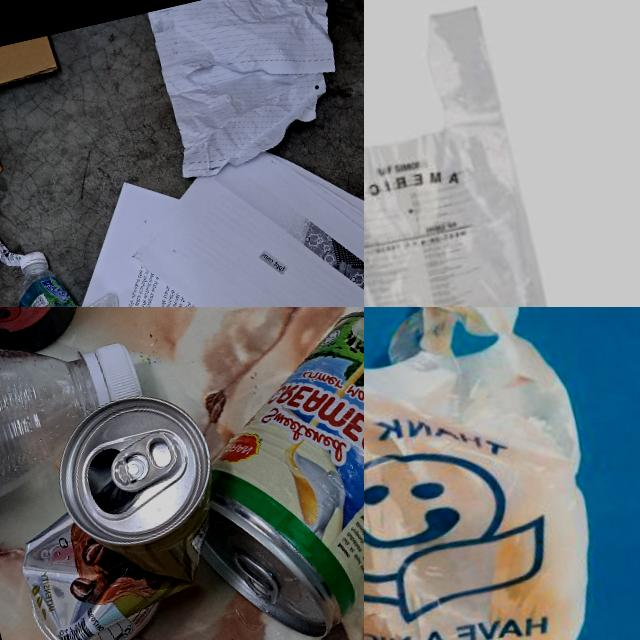aba de lata: (105, 428, 182, 494), (232, 544, 280, 609)
garrafa plástica: (0, 317, 116, 513), (10, 248, 126, 307)
lata: (152, 307, 364, 640), (0, 383, 249, 640)
papel: (0, 111, 364, 307), (144, 0, 364, 184), (0, 222, 26, 274)
papelão: (0, 33, 67, 109)
sacola plástica: (364, 307, 639, 640), (364, 0, 597, 307)
tampa plástica: (86, 340, 143, 408), (18, 249, 48, 271)
